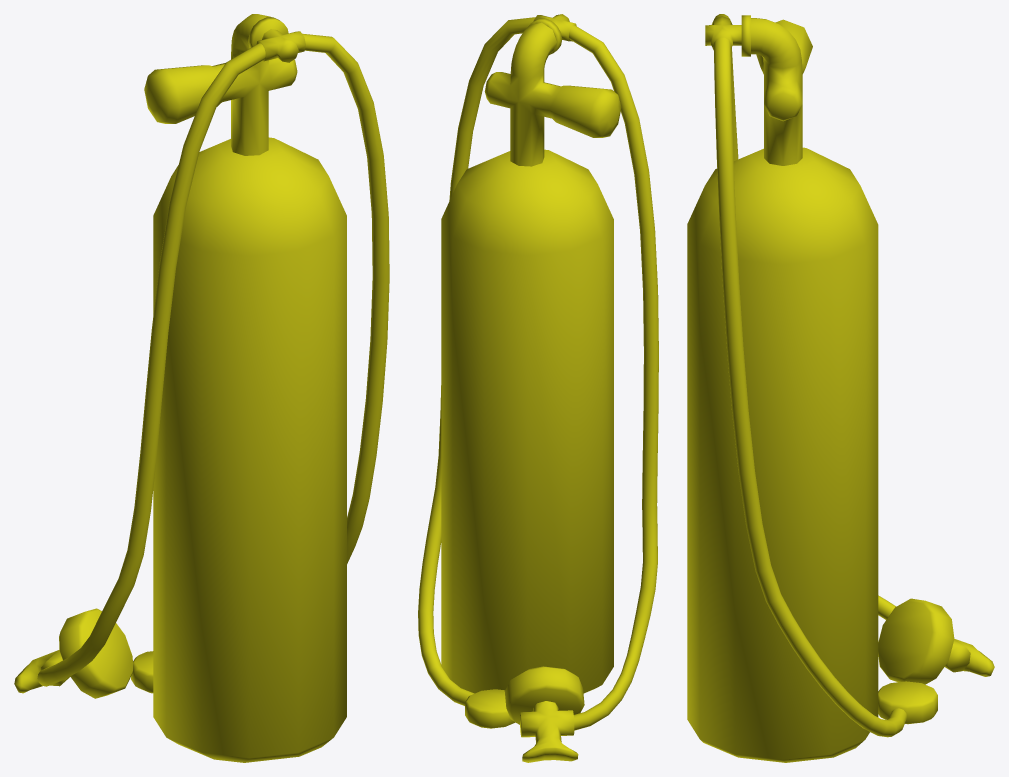
Rendered from OxygenTank.fbx.
3 views of the same model, side by side, from view 1: azimuth 30°, elevation 25°; view 2: azimuth 150°, elevation 25°; view 3: azimuth 270°, elevation 25° (orthographic). The views are drawn at different scales.
Visible parts, largest first — view 1: OxyTank.001, OxyTankAccessories; view 2: OxyTank.001, OxyTankAccessories; view 3: OxyTank.001, OxyTankAccessories.
Boxes of the visible parts, x1,y1,x2,y2 form: OxyTank.001: [144, 14, 346, 762]; OxyTankAccessories: [14, 33, 389, 698]; OxyTank.001: [441, 14, 621, 693]; OxyTankAccessories: [418, 17, 658, 762]; OxyTank.001: [687, 15, 878, 762]; OxyTankAccessories: [714, 14, 994, 737].
Size of the model in its own units: 28.39 by 72.08 by 28.29.
